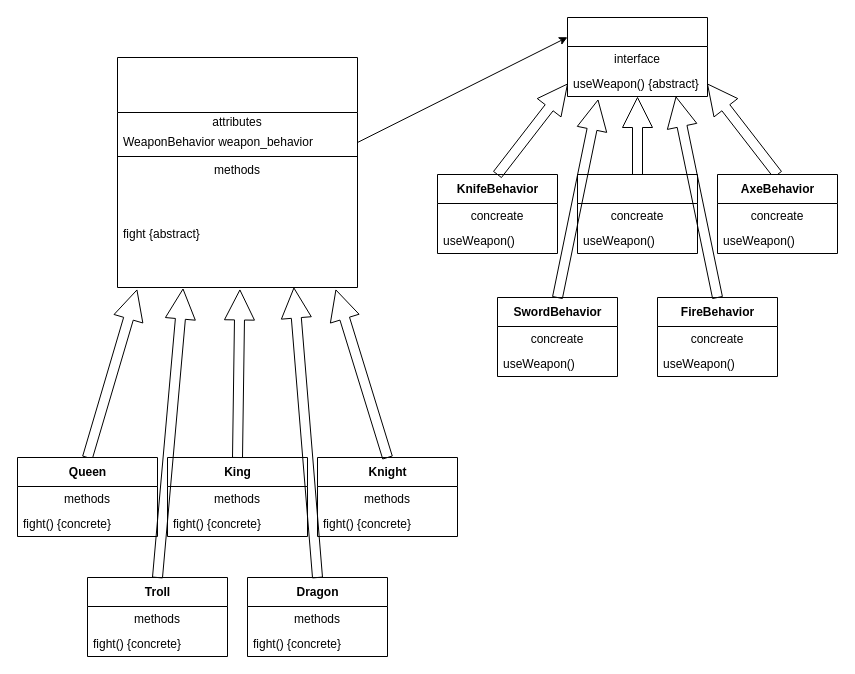
Image size: 855x674. Some labels were removed from this diagram. The shapes that lost their labels are listed below. From the top down, each one's box as (x1, y1, x2, y2) in pixels, then its label:
(566, 16, 708, 96): WeaponBehavior
(116, 56, 358, 288): Character {abstract}
(576, 174, 698, 254): BowAndArrow Behavior
